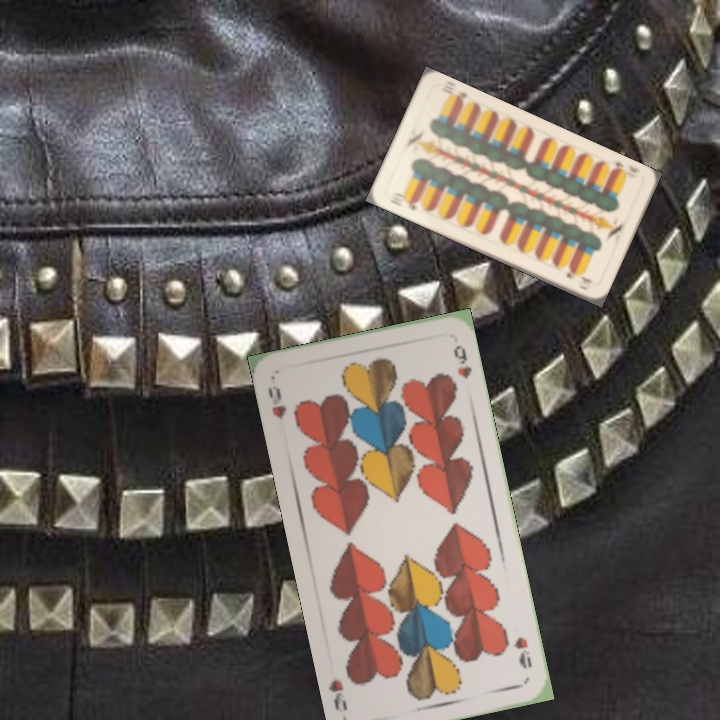E10: (388, 192, 420, 213), (607, 157, 643, 175)
H9: (509, 632, 535, 672), (264, 382, 289, 422)
